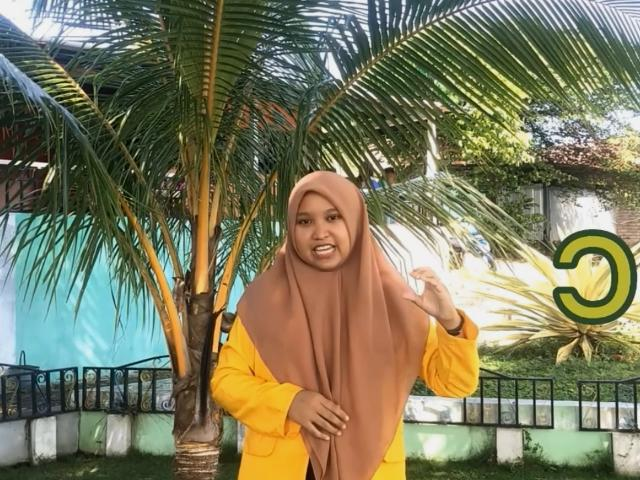C: (402, 269, 458, 324)
